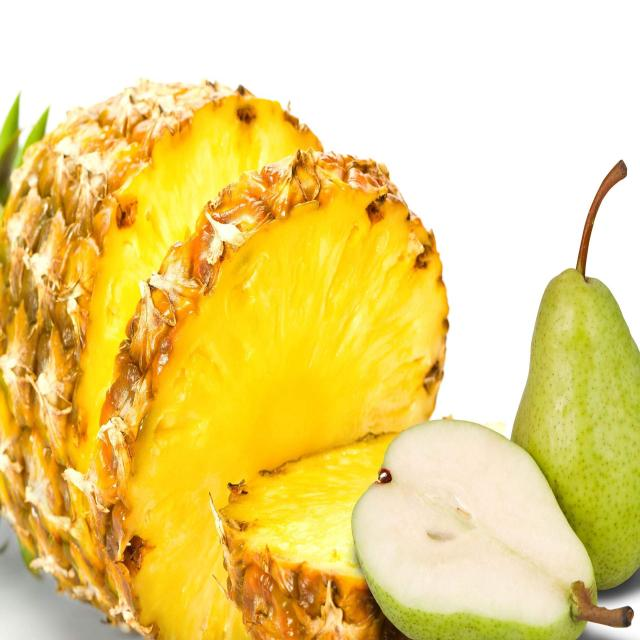pera: (489, 148, 640, 620), (356, 400, 632, 640)
